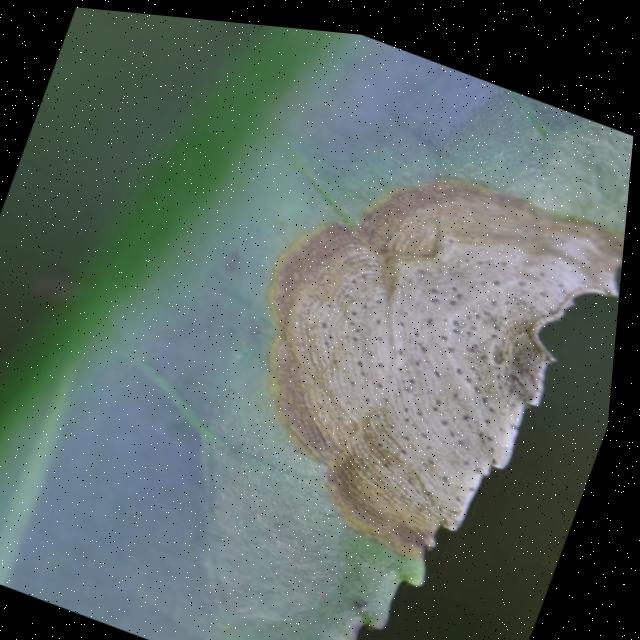Tea cloud leaf blight: (203, 111, 633, 581)
